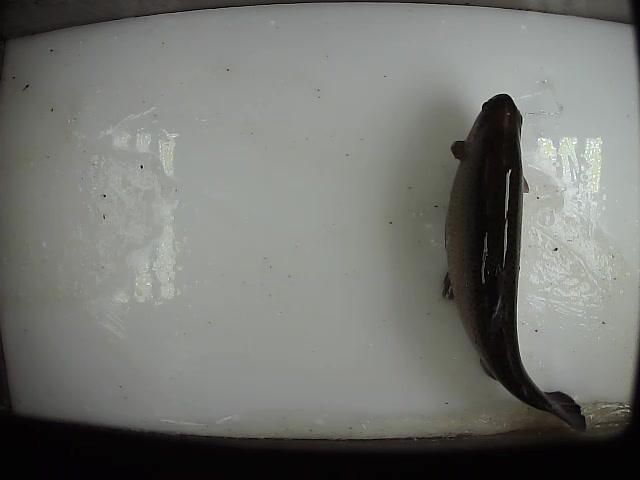fish: (441, 94, 587, 435)
